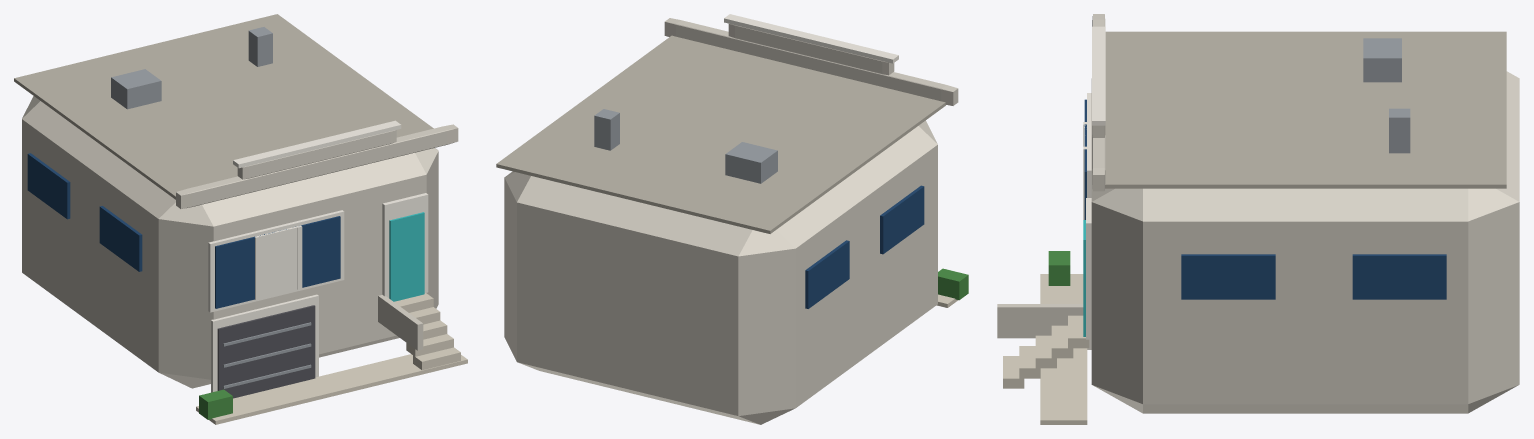
File: sunset_w9_stepped_pic.glb
3 views of the same model, side by side, from view 1: azimuth 30°, elevation 25°; view 2: azimuth 150°, elevation 25°; view 3: azimuth 270°, elevation 25° (orthographic). The views are drawn at different scales.
Parts seen in each view (by area): view 1: walls, roofslab, gdoor, pwin, pp1, patio, door, pmull, pp2, pfr, dfr, gfr (+10 smaller); view 2: walls, roofslab, pp1, pp2, sb, sb.002, pcap, hvac, pipe, hedge; view 3: walls, roofslab, sb.001, sb.003, patio, srail, hvac, pcap, pipe, pp1, dfr, hedge (+6 smaller).
Part boxes in pixels (left/top/right/bottom): walls: left=22, top=96, right=438, bottom=388; roofslab: left=14, top=14, right=433, bottom=199; gdoor: left=217, top=305, right=315, bottom=398; pwin: left=215, top=216, right=340, bottom=308; pp1: left=176, top=124, right=458, bottom=208; patio: left=196, top=354, right=467, bottom=424; door: left=389, top=212, right=424, bottom=301; pmull: left=258, top=226, right=298, bottom=298; pp2: left=237, top=130, right=396, bottom=179; pfr: left=208, top=210, right=344, bottom=312; dfr: left=382, top=193, right=428, bottom=297; gfr: left=211, top=294, right=318, bottom=392; walls: left=504, top=120, right=937, bottom=424; roofslab: left=496, top=35, right=945, bottom=233; pp1: left=664, top=18, right=958, bottom=105; pp2: left=728, top=23, right=894, bottom=75; sb: left=880, top=185, right=924, bottom=254; sb.002: left=805, top=240, right=849, bottom=308; pcap: left=724, top=14, right=898, bottom=63; hvac: left=725, top=142, right=777, bottom=183; pipe: left=594, top=109, right=619, bottom=150; hedge: left=938, top=268, right=968, bottom=300; walls: left=1091, top=71, right=1519, bottom=413; roofslab: left=1105, top=31, right=1506, bottom=188; sb.001: left=1181, top=254, right=1275, bottom=299; sb.003: left=1352, top=254, right=1446, bottom=299; patio: left=1040, top=274, right=1087, bottom=424; srail: left=997, top=304, right=1083, bottom=338; hvac: left=1363, top=38, right=1401, bottom=82; pcap: left=1092, top=26, right=1105, bottom=125; pipe: left=1389, top=108, right=1410, bottom=153; pp1: left=1092, top=14, right=1105, bottom=191; dfr: left=1086, top=198, right=1091, bottom=339; hedge: left=1048, top=251, right=1070, bottom=285.
Bounding box in the file's own units: 9.2 × 7.2 × 12.2.
